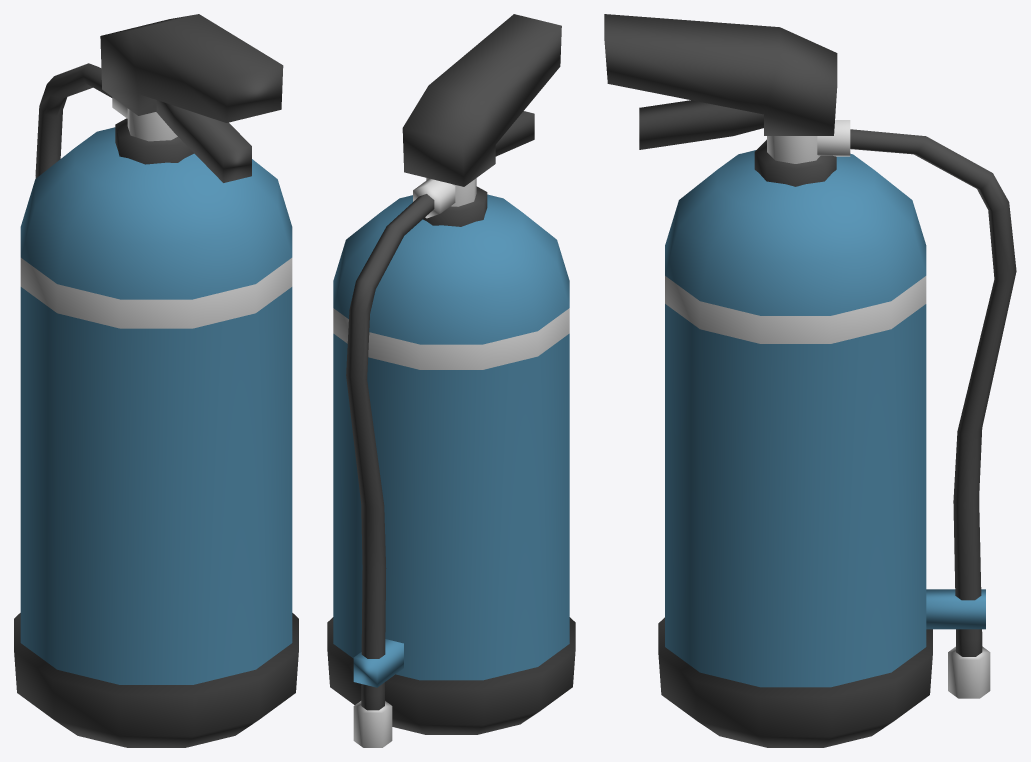
Rendered from FireExtinguisher.fbx.
3 renders of one model, left to right at view 1: azimuth 30°, elevation 25°; view 2: azimuth 150°, elevation 25°; view 3: azimuth 270°, elevation 25°, orthographic. The views are drawn at different scales.
Parts seen in each view (by area): view 1: mesh_extinguisher_01; view 2: mesh_extinguisher_01; view 3: mesh_extinguisher_01.
Boxes of the visible parts, x1=… form: mesh_extinguisher_01: x1=14, y1=14, x2=298, y2=747; mesh_extinguisher_01: x1=327, y1=14, x2=575, y2=747; mesh_extinguisher_01: x1=604, y1=14, x2=1016, y2=747.
Size of the model in its own units: 9.16 by 13.76 by 24.94.
